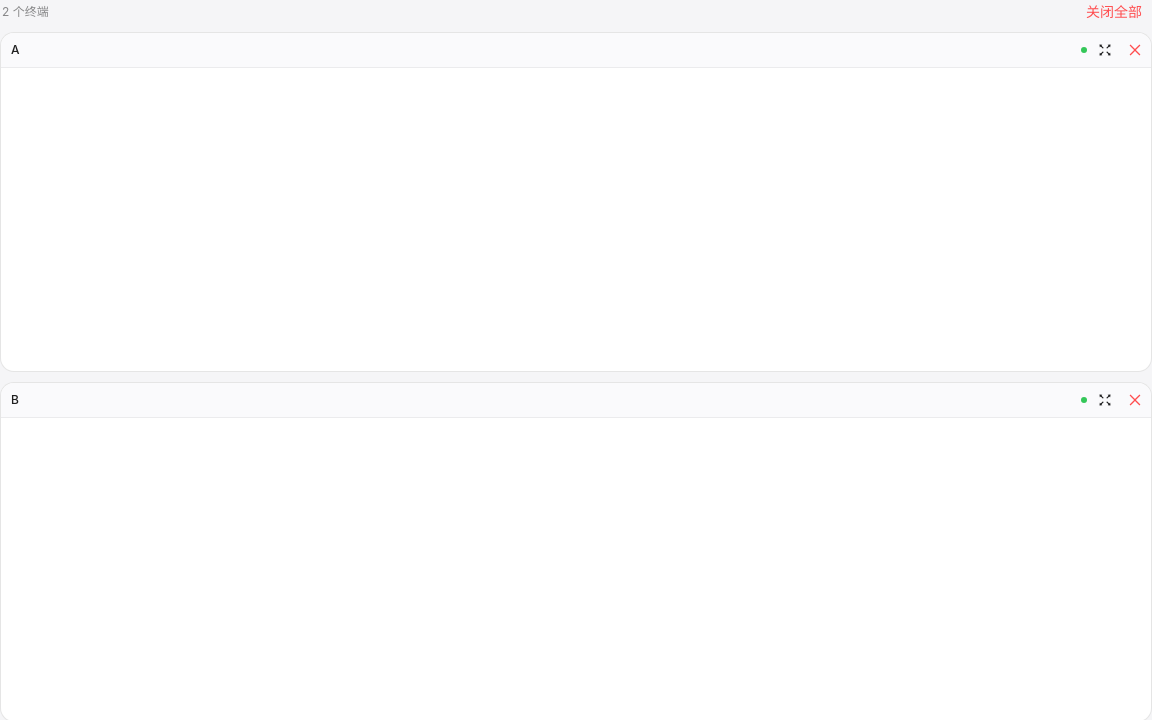
it: 卡片头部右键菜单 › 右键卡片头部弹出三项关闭菜单,且是纯文字(无图标)
expect the text "关闭其他终端" is not shown: met
Right-click the element with test id "card-head-r2" at (576, 400), box [1,383,1151,418]
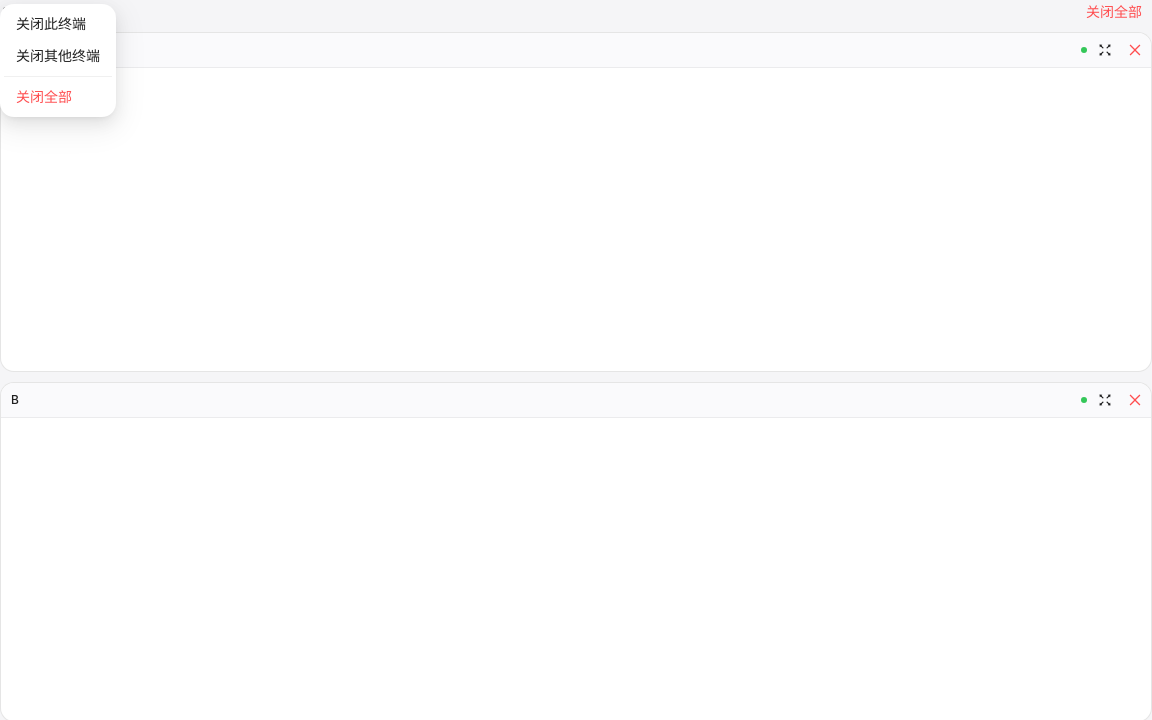
expect the text "关闭其他终端" is shown: met, box [16,45,100,67]
expect the menu item "关闭此终端" is shown: met, box [16,15,86,32]
expect the menu item "关闭其他终端" is shown: met, box [16,47,100,64]
